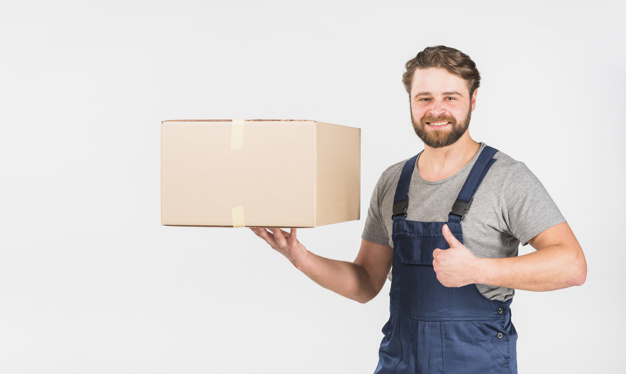thumbsup: (432, 223, 464, 287)
